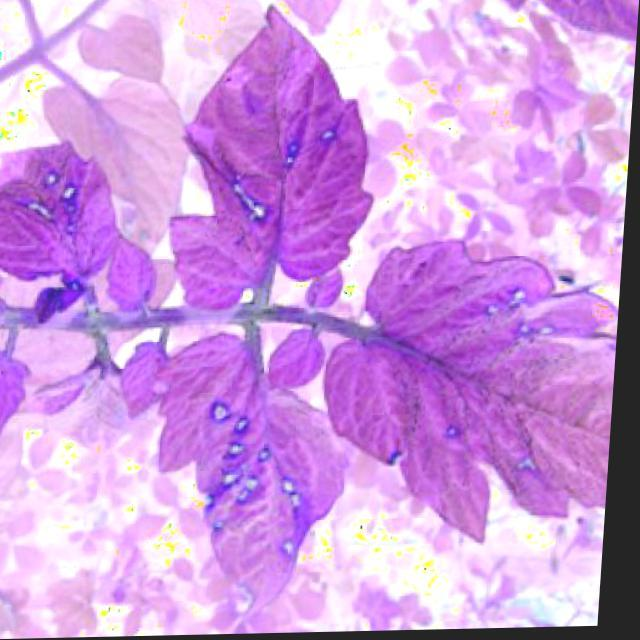Tomato late blight leaf: (308, 233, 626, 552), (158, 0, 402, 317), (142, 324, 388, 630), (0, 136, 127, 299)
